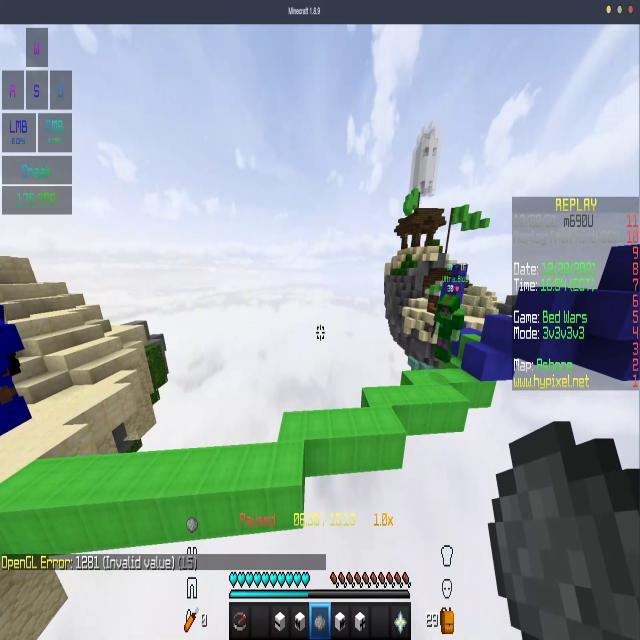Player: (0, 296, 42, 445), (430, 280, 464, 372)
